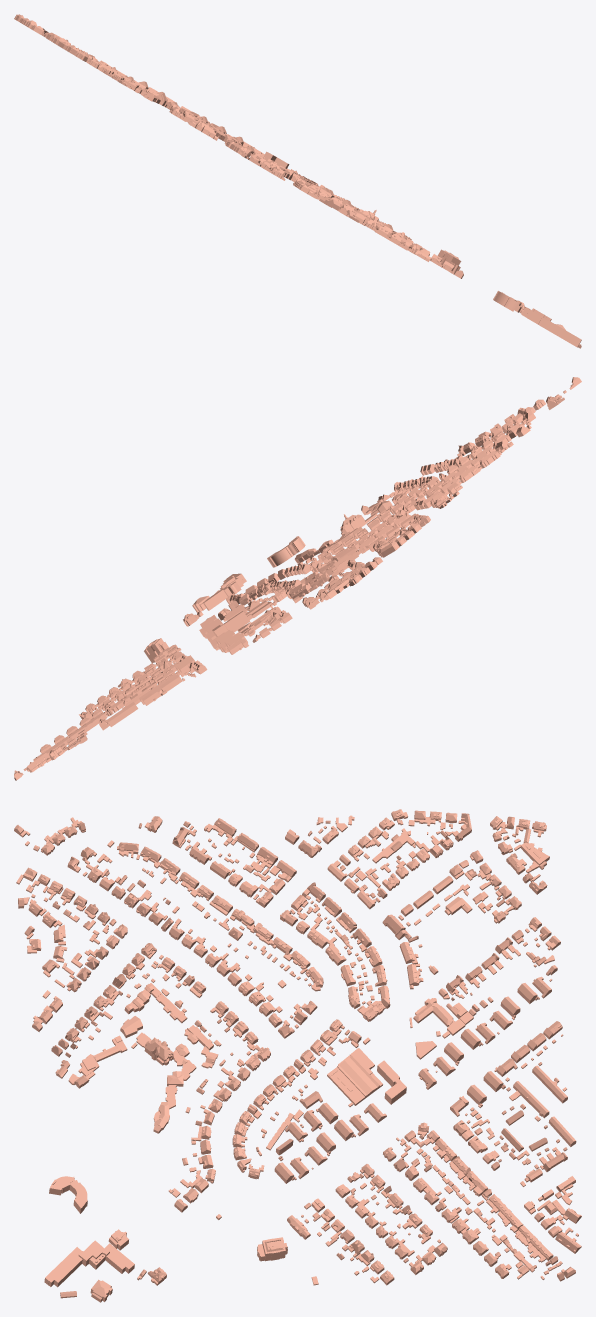
The picture shows the model from 3 angles, top to bottom: view 1: azimuth 30°, elevation 25°; view 2: azimuth 150°, elevation 25°; view 3: azimuth 270°, elevation 25°; orthographic projection. The views are drawn at different scales.
Bounding box in the file's own units: 518 × 382 × 643.
